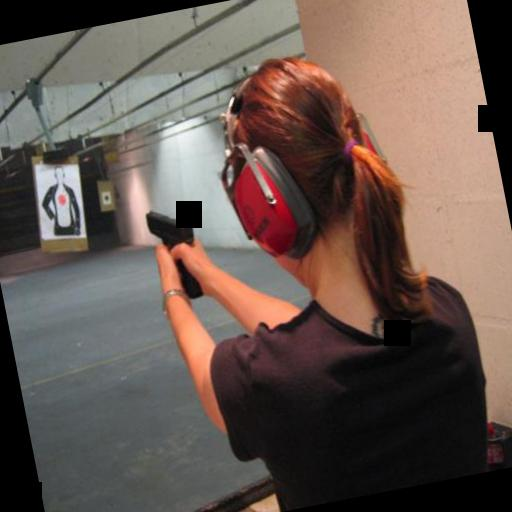Handgun: (141, 204, 205, 306)
